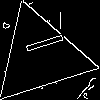I: (16, 31, 65, 59)
